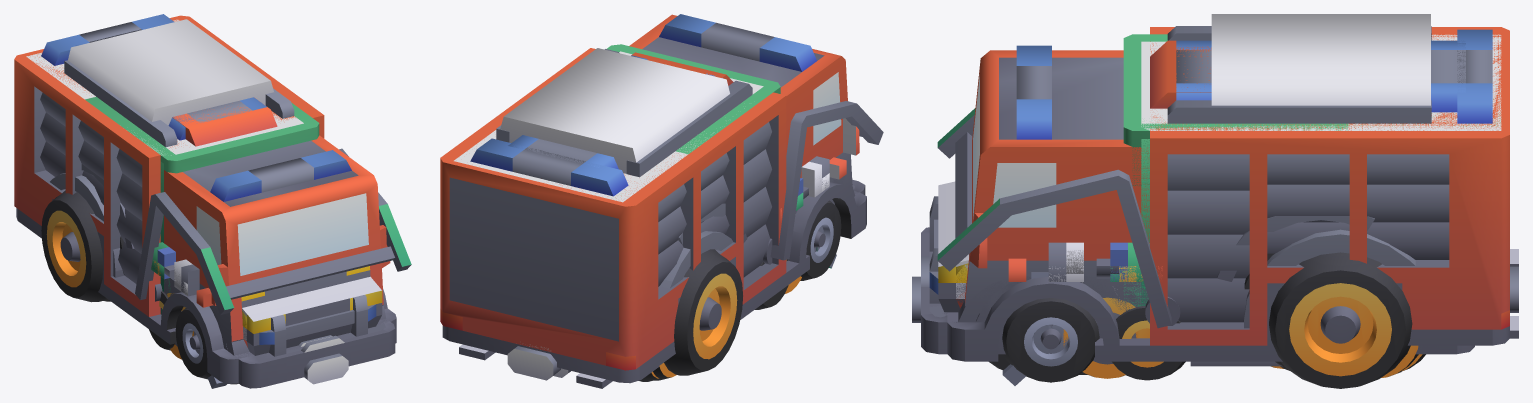
The model's file is carkit.glb.
The picture shows the model from 3 angles, left to right: view 1: azimuth 30°, elevation 25°; view 2: azimuth 150°, elevation 25°; view 3: azimuth 270°, elevation 25°; orthographic projection. The views are drawn at different scales.
Visible parts, largest first — view 1: body (×5), arm, wheel-back-right, grill, wheel-front-right; view 2: body (×4), wheel-back-right, arm, wheel-front-right; view 3: body (×13), wheel-back-left, arm, wheel-front-left (×3), grill, shovel.
Boxes of the visible parts, left/top/right/bottom form: body (×5): left=14, top=14, right=396, bottom=388; arm: left=135, top=148, right=411, bottom=314; wheel-back-right: left=41, top=190, right=106, bottom=302; grill: left=250, top=295, right=385, bottom=359; wheel-front-right: left=175, top=308, right=211, bottom=379; body (×4): left=440, top=14, right=866, bottom=388; wheel-back-right: left=664, top=249, right=742, bottom=375; arm: left=763, top=101, right=883, bottom=264; wheel-front-right: left=800, top=200, right=841, bottom=280; body (×13): left=912, top=14, right=1518, bottom=366; wheel-back-left: left=1269, top=252, right=1412, bottom=388; arm: left=937, top=108, right=1180, bottom=328; wheel-front-left (×3): left=1002, top=297, right=1185, bottom=382; grill: left=921, top=196, right=947, bottom=317; shovel: left=1002, top=272, right=1048, bottom=385.
Size of the model in its own units: 1.66 by 1.8 by 3.45.
Materials: 1 (1 with a texture image).
